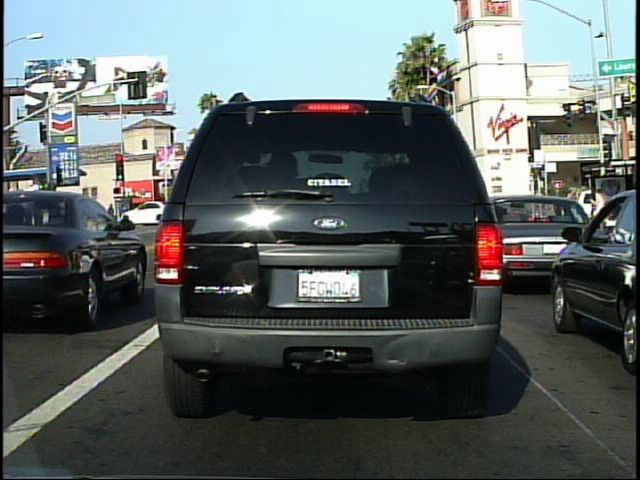person: (587, 184, 609, 242), (102, 199, 118, 233)
